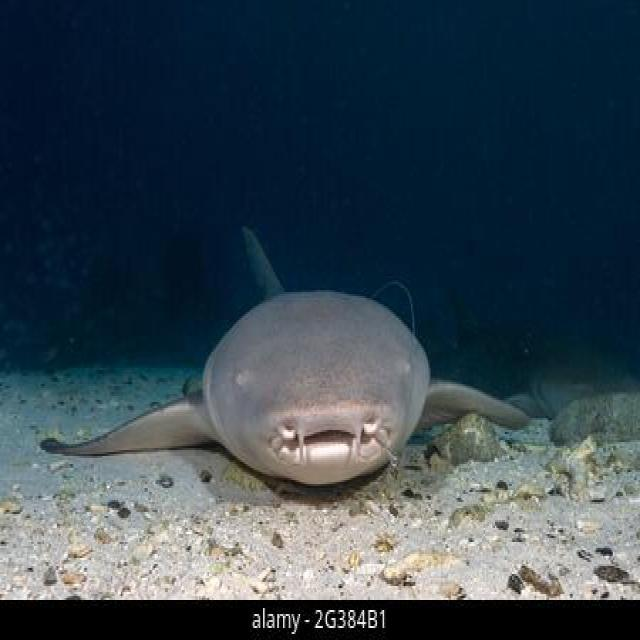Shark: (34, 218, 545, 520)
